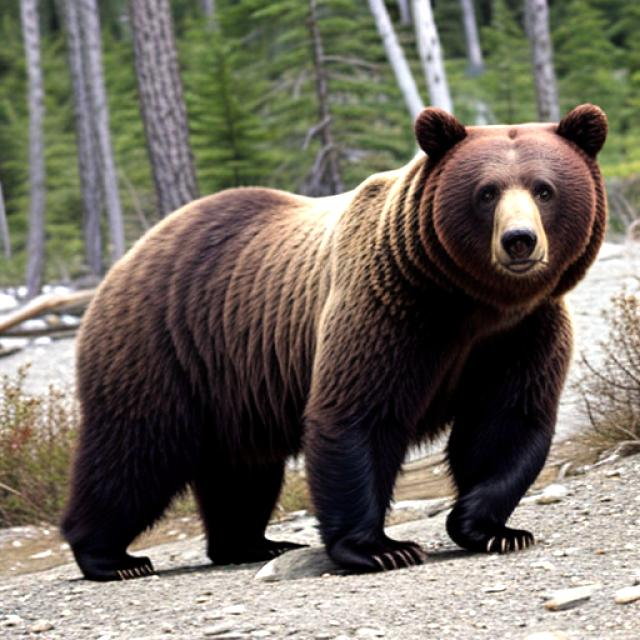bear: (85, 115, 640, 548)
